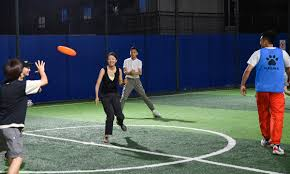disc: (55, 45, 76, 57)
